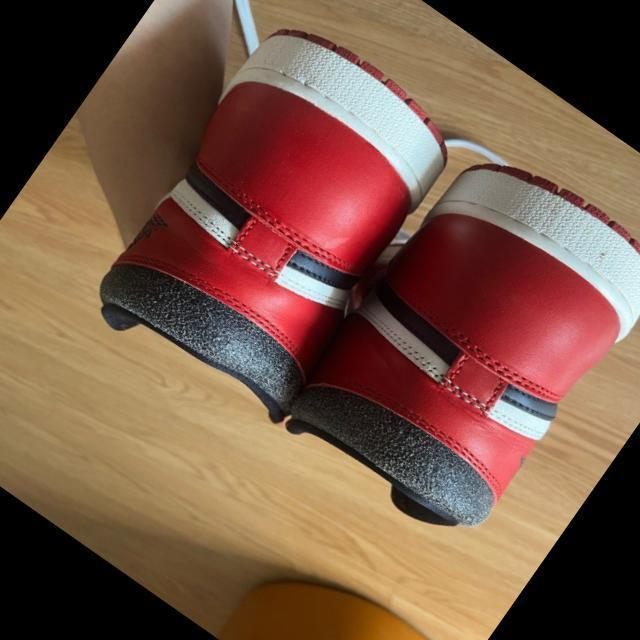nike original jordan 1: (76, 2, 480, 439), (270, 124, 640, 559)
